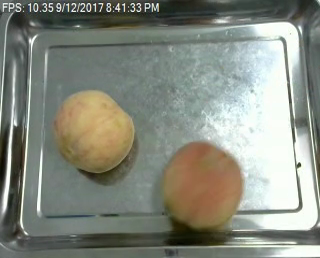Peach: (163, 140, 243, 231), (52, 88, 134, 173)
